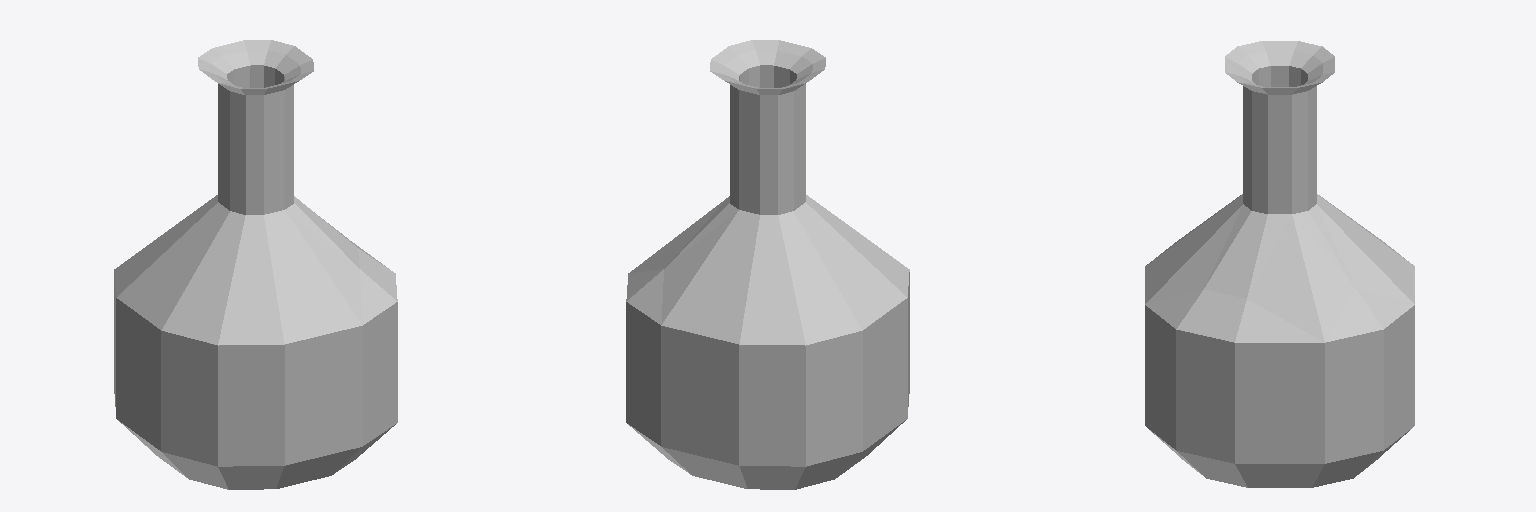
The model's file is flask.obj.
3 renders of one model, left to right at view 1: azimuth 30°, elevation 25°; view 2: azimuth 150°, elevation 25°; view 3: azimuth 270°, elevation 25°, orthographic.
Parts seen in each view (by area): view 1: Plane; view 2: Plane; view 3: Plane.
Part boxes in pixels (x1,y1,x2,y2): Plane: (114, 40, 397, 489); Plane: (626, 40, 909, 489); Plane: (1145, 41, 1414, 487).
Size of the model in its own units: 0.2875 by 0.4494 by 0.2875.